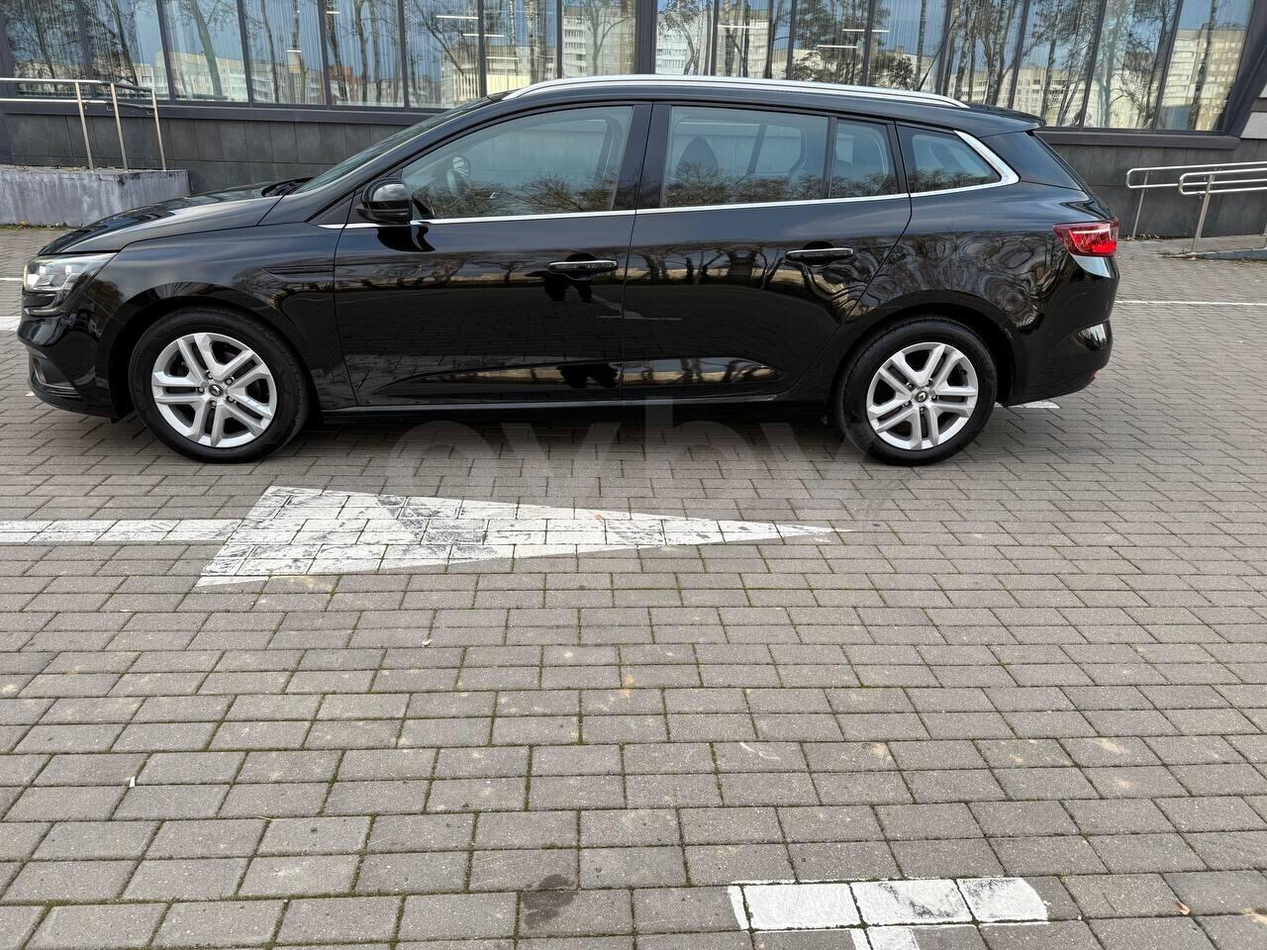Megane_2016-2020: (14, 73, 1126, 497)
